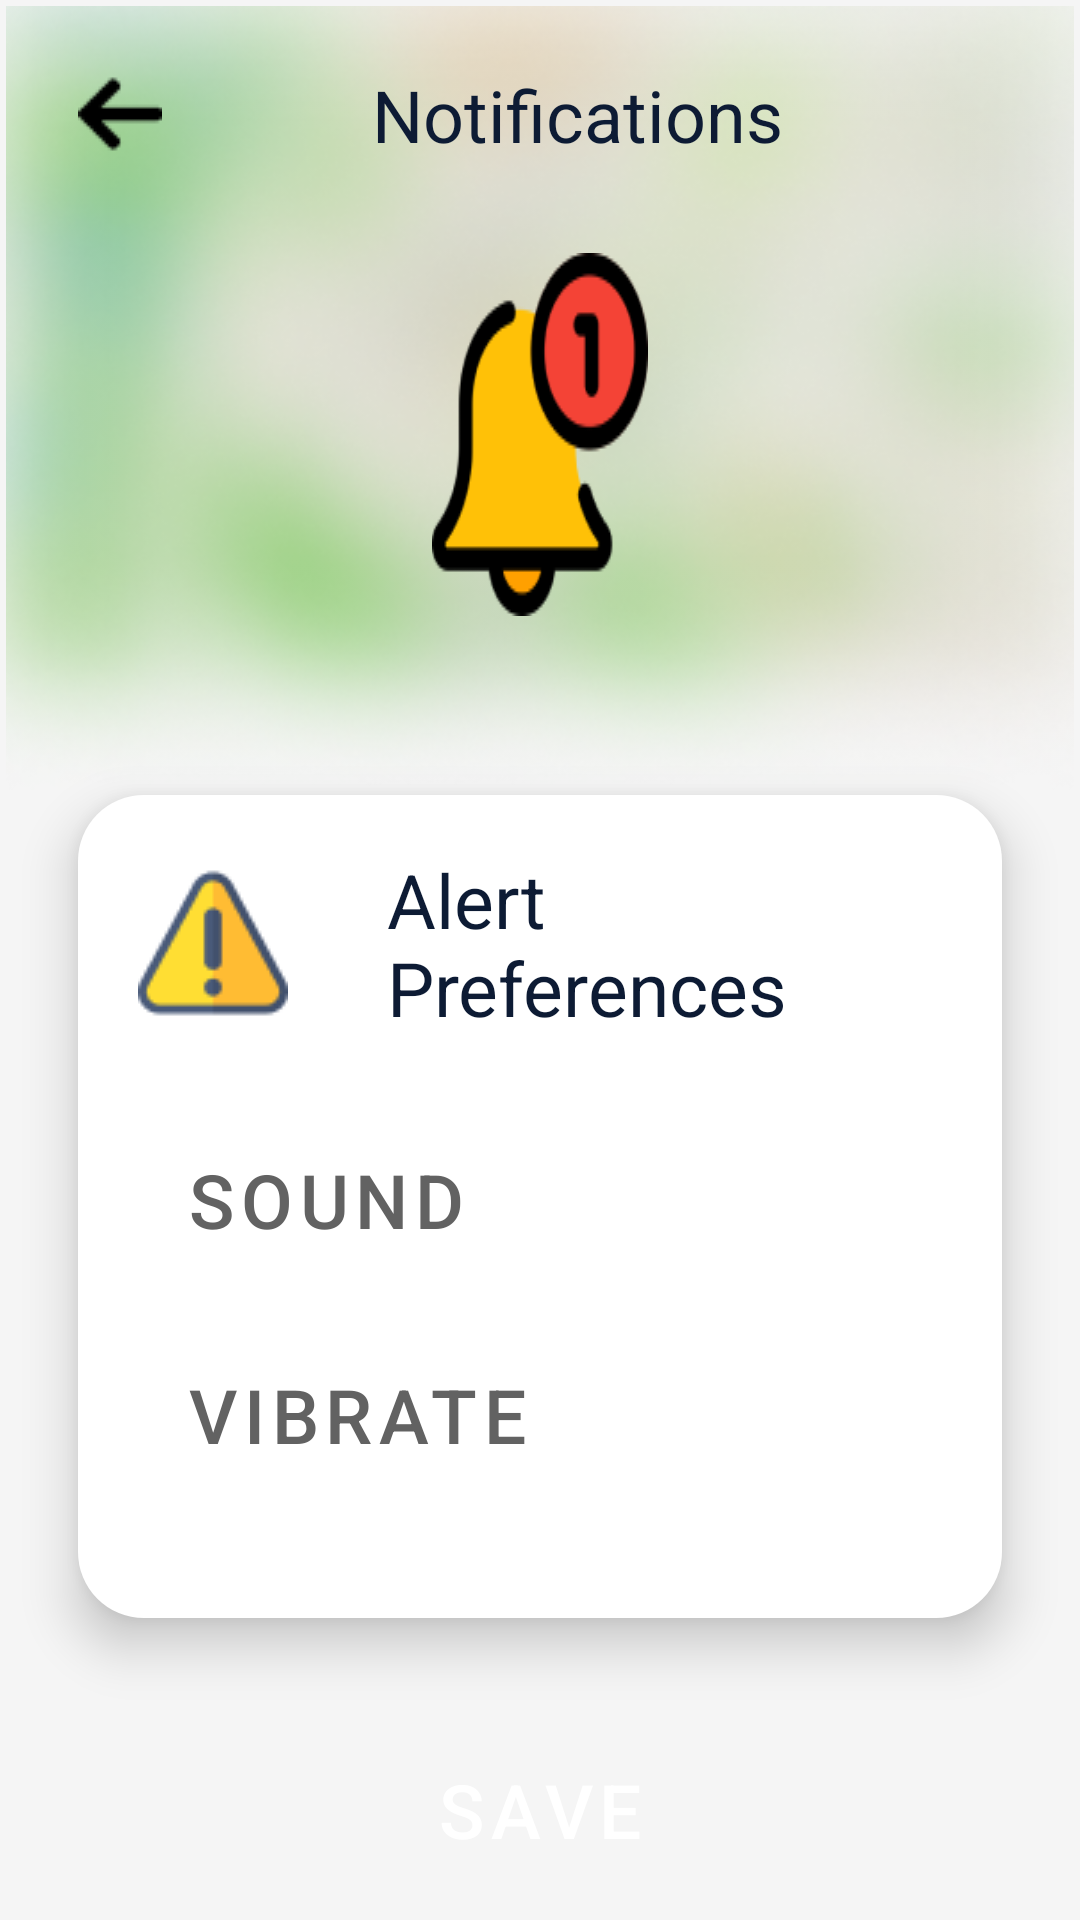

Icons on this 1080w x 1920h Android screen, each with the point to tap as (x,y):
warning: (213,943)
